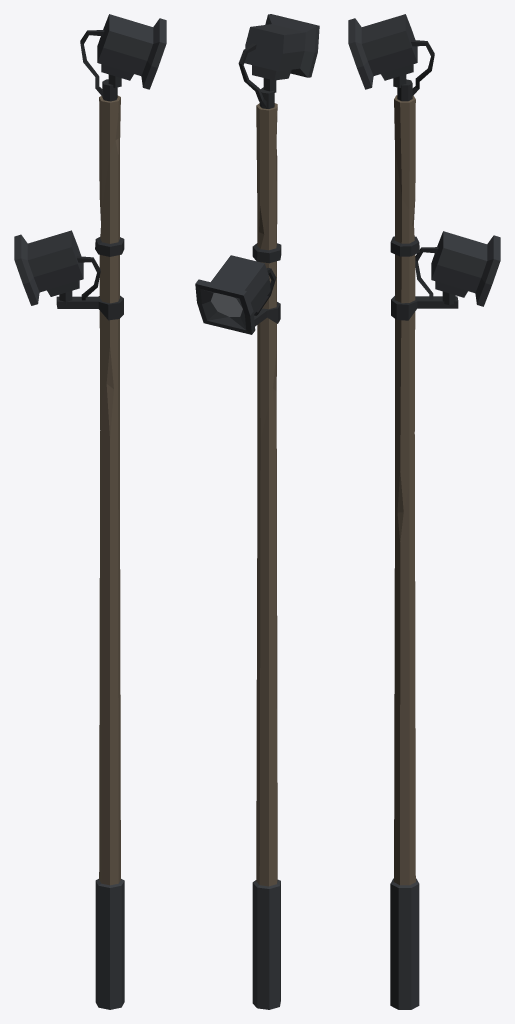
Rendered from SM_Prop_LightPole_02.fbx.
3 views of the same model, side by side, from view 1: azimuth 90°, elevation 25°; view 2: azimuth 150°, elevation 25°; view 3: azimuth 270°, elevation 25° (orthographic).
Parts seen in each view (by area): view 1: SM_Prop_LightPole_02; view 2: SM_Prop_LightPole_02; view 3: SM_Prop_LightPole_02.
Part boxes in pixels (x1,y1,x2,y2): SM_Prop_LightPole_02: (14, 14, 166, 1009); SM_Prop_LightPole_02: (195, 14, 319, 1009); SM_Prop_LightPole_02: (348, 14, 500, 1009).
Size of the model in its own units: 56.93 by 982 by 138.
